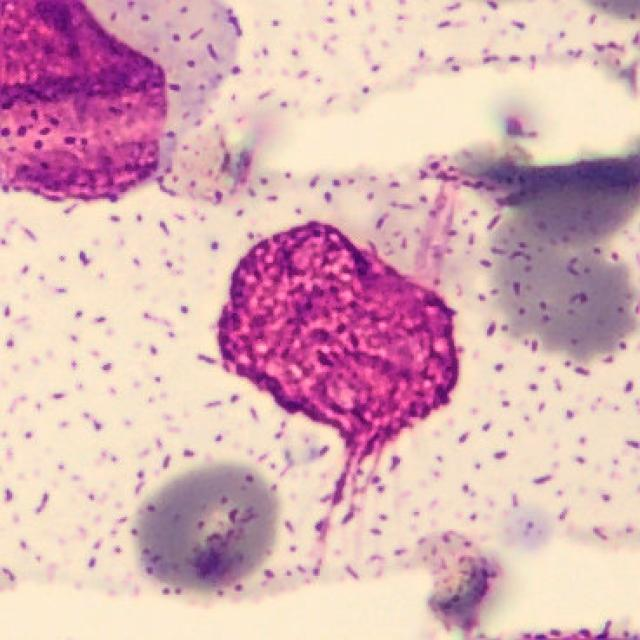Restos celulares: (216, 221, 461, 464)
